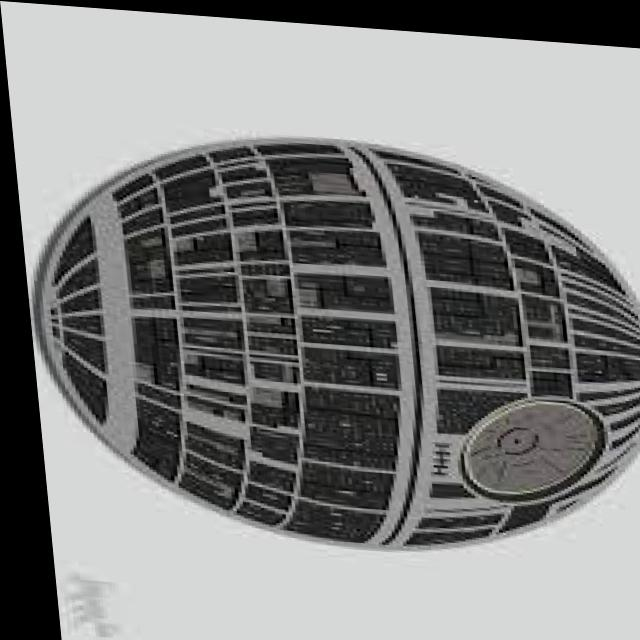deathStar: (13, 120, 640, 565)
